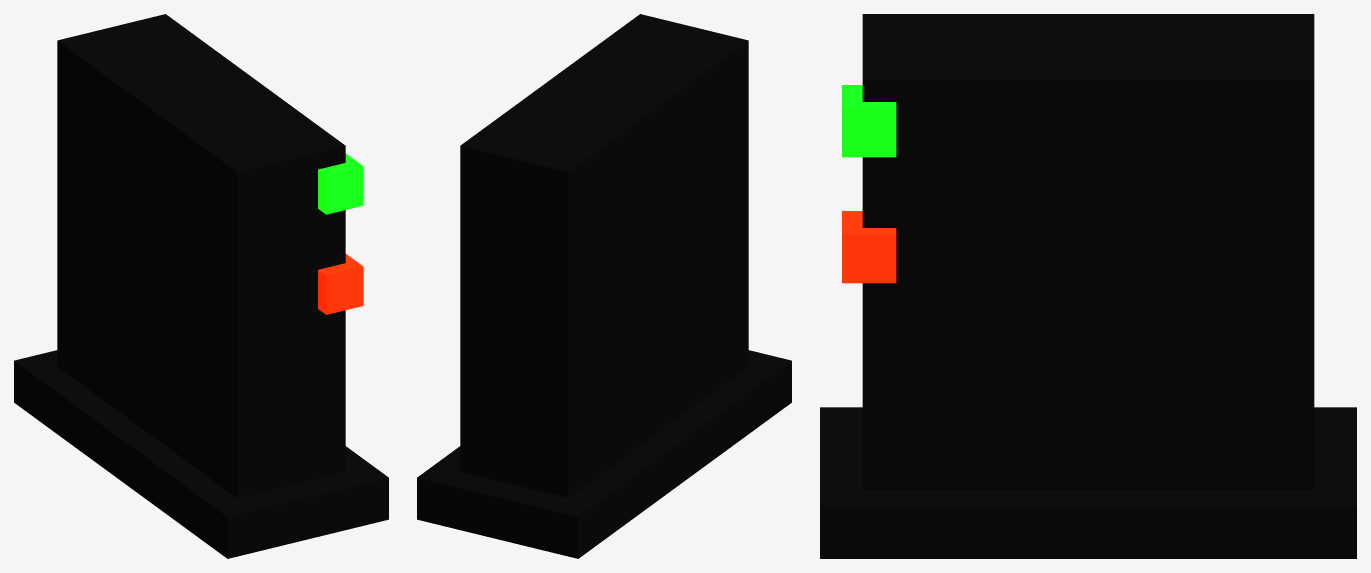
The model's file is router.fbx.
3 views of the same model, side by side, from view 1: azimuth 30°, elevation 25°; view 2: azimuth 150°, elevation 25°; view 3: azimuth 270°, elevation 25° (orthographic). The views are drawn at different scales.
Visible parts, largest first — view 1: Cube, Cube.001, Cube.002; view 2: Cube; view 3: Cube, Cube.001, Cube.002.
Boxes of the visible parts, x1,y1,x2,y2 form: Cube: (14,14,388,558); Cube.001: (318,153,363,214); Cube.002: (318,254,363,314); Cube: (417,14,791,558); Cube: (820,14,1356,558); Cube.001: (842,85,896,157); Cube.002: (842,211,896,283).
Size of the model in its own units: 103 by 224 by 236.
